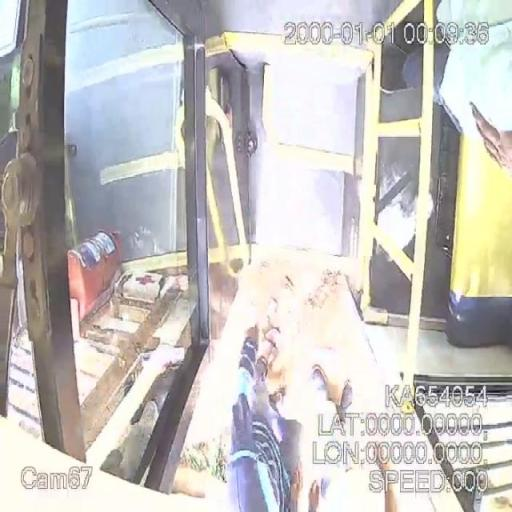persona: (226, 325, 304, 510)
